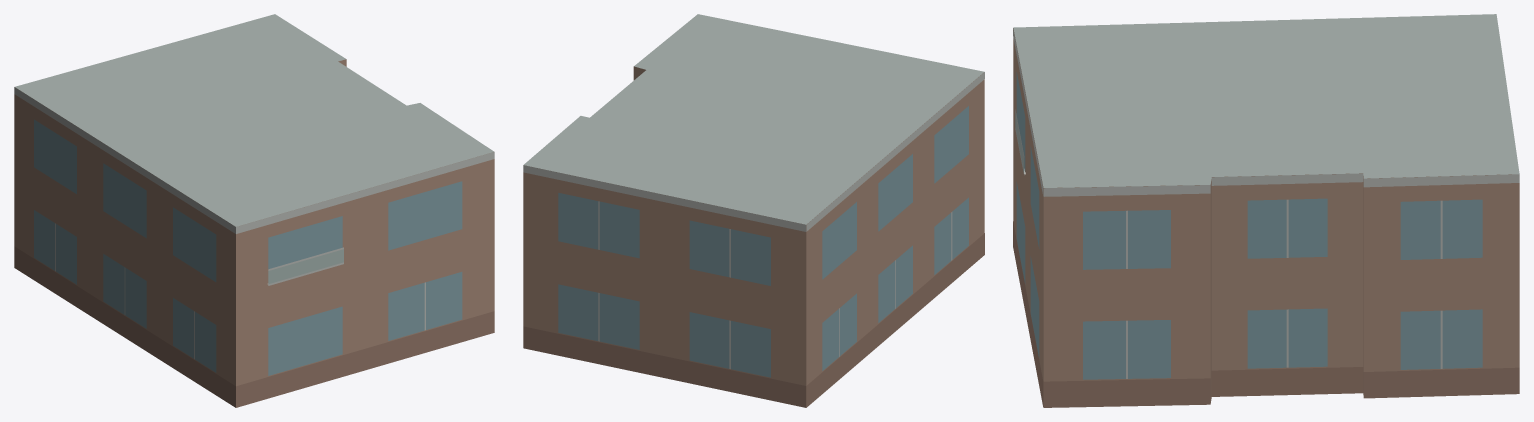
The model's file is survey-upis-32667145.glb.
3 views of the same model, side by side, from view 1: azimuth 30°, elevation 25°; view 2: azimuth 150°, elevation 25°; view 3: azimuth 270°, elevation 25° (orthographic). The views are drawn at different scales.
Visible parts, largest first — view 1: survey-upis-32667145.tmp; view 2: survey-upis-32667145.tmp; view 3: survey-upis-32667145.tmp.
Boxes of the visible parts, x1=… form: survey-upis-32667145.tmp: x1=14, y1=14, x2=494, y2=407; survey-upis-32667145.tmp: x1=523, y1=14, x2=984, y2=407; survey-upis-32667145.tmp: x1=1013, y1=14, x2=1519, y2=407.
Size of the model in its own units: 10.37 by 6.1 by 12.75.
